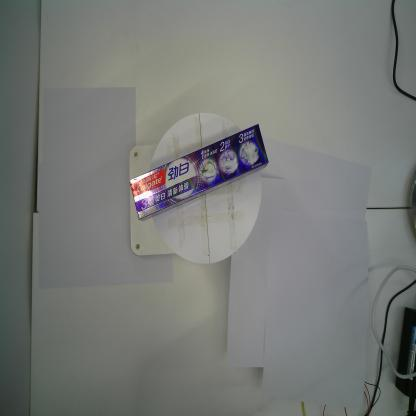Personal Hygiene: (128, 122, 270, 226)
